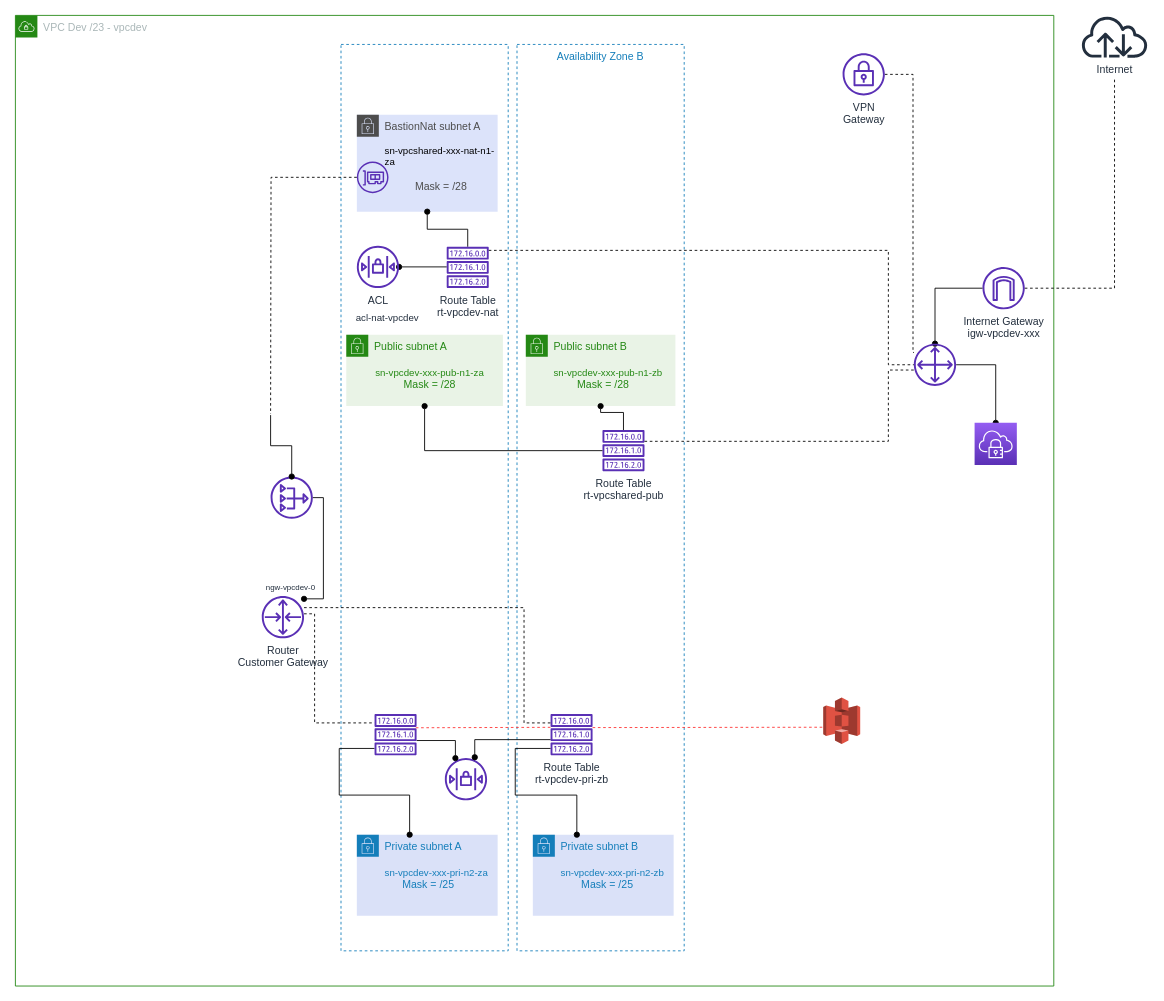
The diagram is 1164 pixels wide and 1001 high, and some of its shapes have lost their labels. Here are the shapes that lost their labels. From the top down, the box of each, then its label:
(356, 161, 388, 193): ENI
(913, 343, 956, 385): Router
(974, 422, 1017, 465): VPN Client
(270, 476, 312, 518): Nat Gateway A
(340, 44, 508, 951): Availability Zone A
(374, 714, 416, 755): Route Table rt-vpcdev-pri-za
(822, 697, 860, 744): S3-VPCEndpoint
(444, 758, 487, 800): ACL acl-priv-vpcdev
